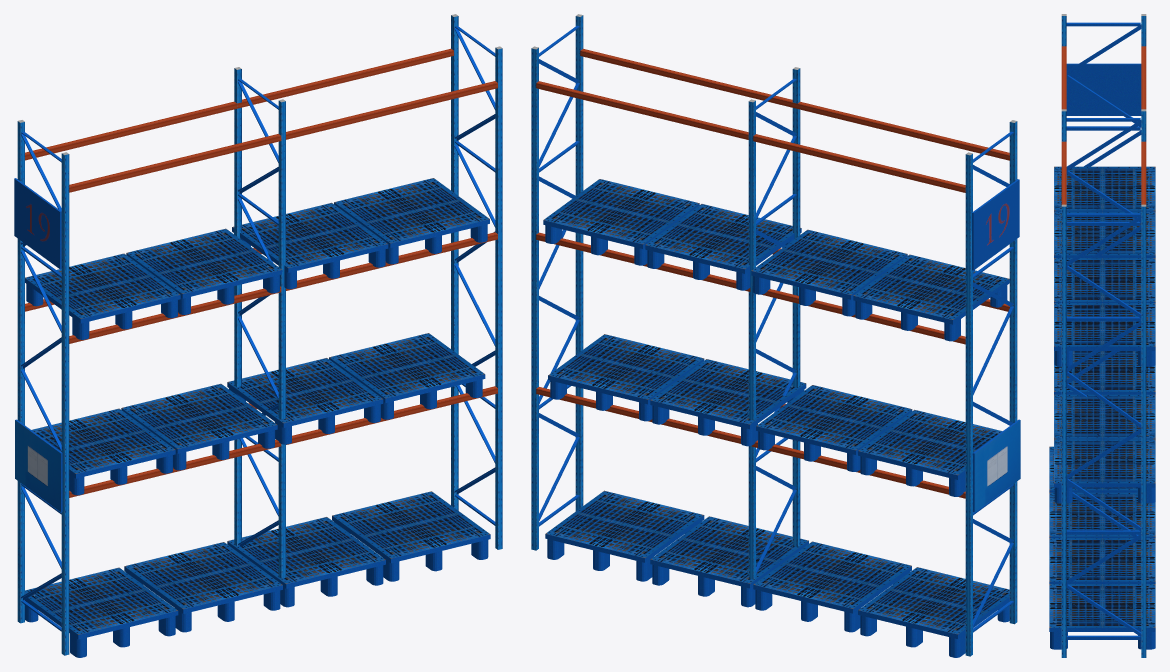
The model's file is Shelf19.FBX.
3 renders of one model, left to right at view 1: azimuth 30°, elevation 25°; view 2: azimuth 150°, elevation 25°; view 3: azimuth 270°, elevation 25°, orthographic. The views are drawn at different scales.
Parts seen in each view (by area): view 1: Box3809, Box3839, Box3837, Box3796, 对象39, 图形194, 图形196, 图形195, Box3841, Box3799, Box3800, Box3840 (+2 smaller); view 2: Box3809, Box3839, Box3837, Box3796, 对象39, 图形196, 图形194, 图形195, Box3841, Box3799, Box3800, Box3840 (+2 smaller); view 3: 图形196, Box3839, Box3837, Box3809, Box3841, Box3840, Box3789, Box3799, Box3796, 图形195, 图形194, 对象39 (+1 smaller).
Boxes of the visible parts, x1,y1,x2,y2 form: Box3809: [25, 228, 282, 339]; Box3839: [227, 333, 485, 444]; Box3837: [232, 178, 489, 289]; Box3796: [31, 383, 277, 495]; 对象39: [25, 48, 497, 497]; 图形194: [17, 120, 69, 655]; 图形196: [451, 14, 502, 549]; 图形195: [234, 67, 285, 578]; Box3841: [332, 491, 490, 581]; Box3799: [124, 542, 282, 632]; Box3800: [25, 567, 178, 657]; Box3840: [227, 517, 385, 607]; Box3809: [751, 229, 1009, 341]; Box3839: [548, 334, 806, 446]; Box3837: [543, 179, 801, 290]; Box3796: [756, 385, 1002, 496]; 对象39: [536, 48, 1009, 498]; 图形196: [531, 14, 583, 550]; 图形194: [965, 120, 1017, 656]; 图形195: [748, 67, 800, 579]; Box3841: [545, 490, 704, 581]; Box3799: [753, 541, 911, 632]; Box3800: [858, 567, 1009, 657]; Box3840: [650, 516, 808, 607]; 图形196: [1061, 204, 1146, 657]; Box3839: [1054, 394, 1155, 503]; Box3837: [1054, 258, 1155, 366]; Box3809: [1054, 166, 1155, 257]; Box3841: [1049, 584, 1155, 649]; Box3840: [1049, 538, 1155, 583]; Box3789: [1066, 63, 1141, 115]; Box3799: [1049, 492, 1155, 537]; Box3796: [1054, 351, 1155, 394]; 图形195: [1061, 109, 1146, 540]; 图形194: [1061, 14, 1146, 166]; 对象39: [1061, 46, 1146, 204].
Size of the model in its own units: 4.41 by 1.02 by 4.78.
